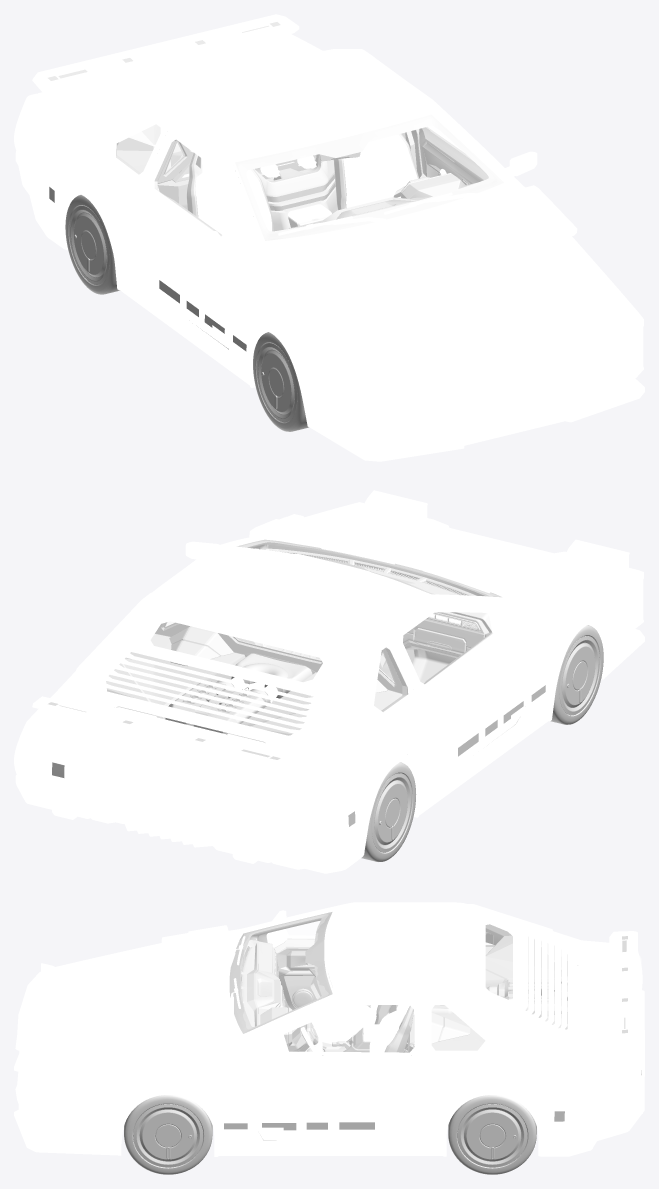
Rendered from Cyberpunk Vehicles.glb.
The picture shows the model from 3 angles, top to bottom: view 1: azimuth 30°, elevation 25°; view 2: azimuth 150°, elevation 25°; view 3: azimuth 270°, elevation 25°; orthographic projection. The views are drawn at different scales.
Visible parts, largest first — view 1: KB3D_CPV_VehicSportsCar_A_body; view 2: KB3D_CPV_VehicSportsCar_A_body; view 3: KB3D_CPV_VehicSportsCar_A_body.
Boxes of the visible parts, x1=… form: KB3D_CPV_VehicSportsCar_A_body: x1=14, y1=14, x2=644, y2=461; KB3D_CPV_VehicSportsCar_A_body: x1=14, y1=490, x2=644, y2=873; KB3D_CPV_VehicSportsCar_A_body: x1=14, y1=902, x2=644, y2=1174.
Bounding box in the file's own units: 2.88 × 1.54 × 5.18.
16 materials, 5 textured.
